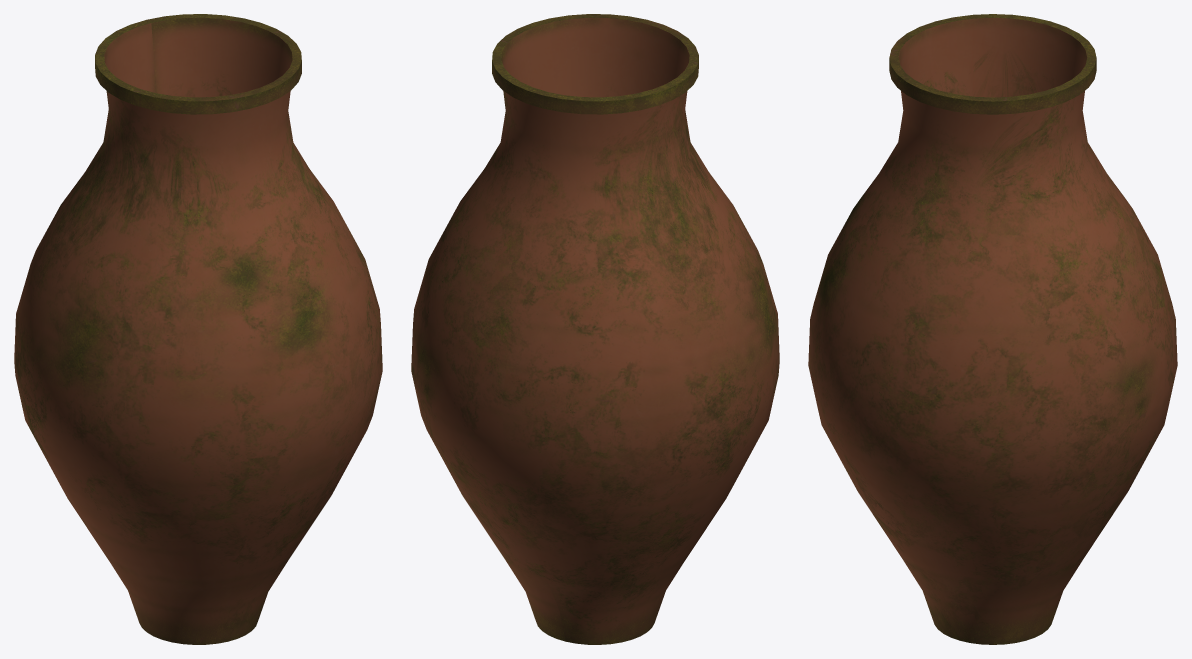
The model's file is vase_c3102c6c.glb.
3 views of the same model, side by side, from view 1: azimuth 30°, elevation 25°; view 2: azimuth 150°, elevation 25°; view 3: azimuth 270°, elevation 25° (orthographic).
Visible parts, largest first — view 1: Cylinder.025; view 2: Cylinder.025; view 3: Cylinder.025.
Part boxes in pixels (x1,y1,x2,y2): Cylinder.025: (14, 14, 382, 644); Cylinder.025: (411, 14, 779, 644); Cylinder.025: (808, 14, 1177, 644).
Bounding box in the file's own units: 65.06 × 109 × 65.06.
Materials: 1 (1 with a texture image).
